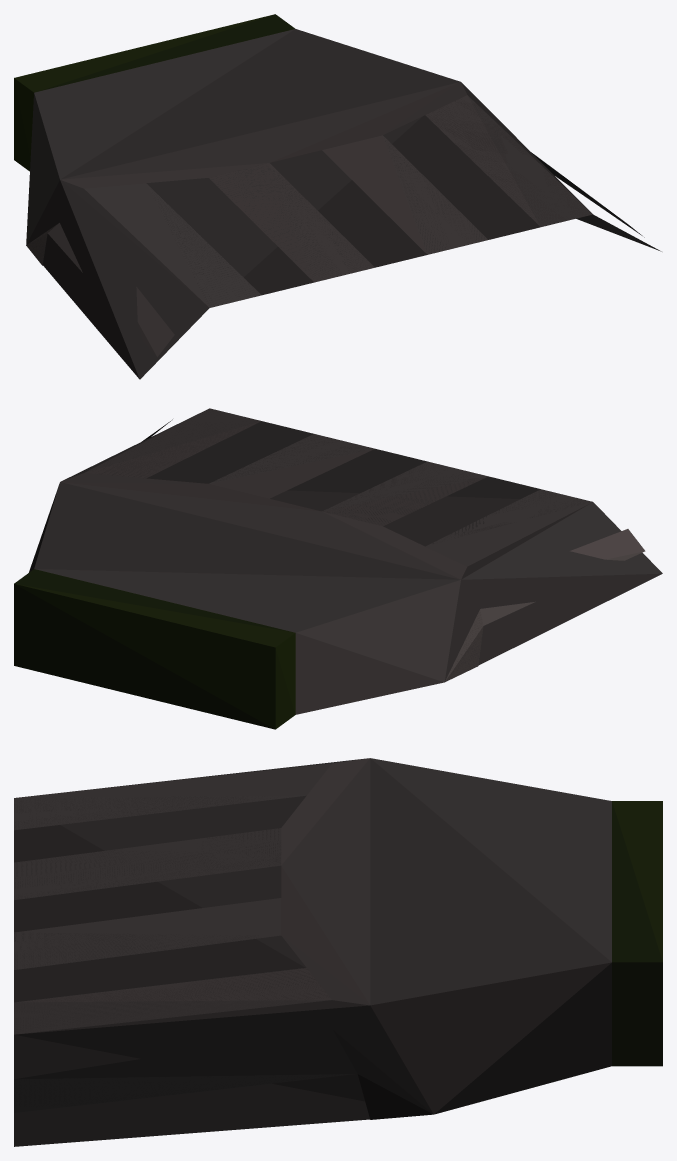
Rendered from iron-plateskirt.obj.
The picture shows the model from 3 angles, top to bottom: view 1: azimuth 30°, elevation 25°; view 2: azimuth 150°, elevation 25°; view 3: azimuth 270°, elevation 25°; orthographic projection. The views are drawn at different scales.
Parts seen in each view (by area): view 1: Item Iron plateskirt 2026-09-24_18-11-15; view 2: Item Iron plateskirt 2026-09-24_18-11-15; view 3: Item Iron plateskirt 2026-09-24_18-11-15.
Boxes of the visible parts, box(x1,y1,x2,y2) form: Item Iron plateskirt 2026-09-24_18-11-15: box(14, 14, 661, 379); Item Iron plateskirt 2026-09-24_18-11-15: box(14, 408, 662, 729); Item Iron plateskirt 2026-09-24_18-11-15: box(14, 758, 662, 1146).
Bounding box in the file's own units: 60 × 9 × 51.
